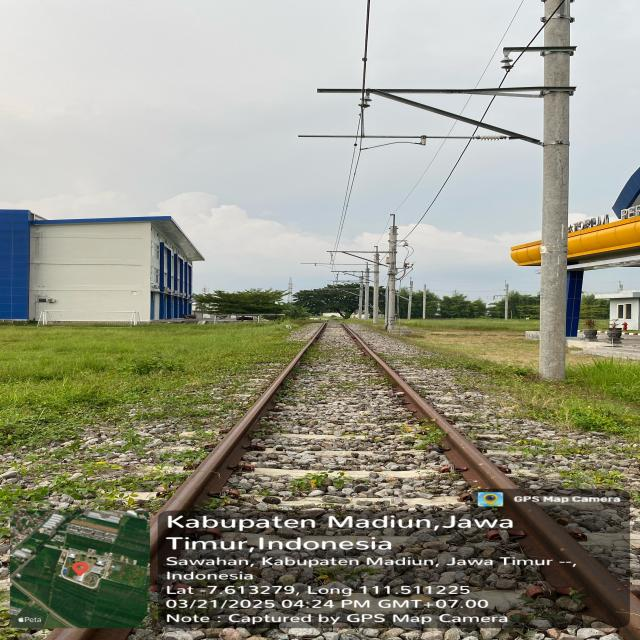rail-detection: (342, 325, 638, 627), (150, 324, 326, 580)
